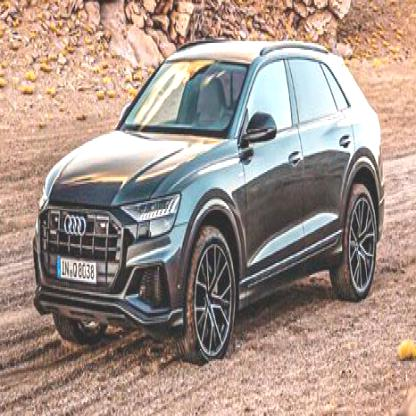car: (34, 38, 386, 361)
